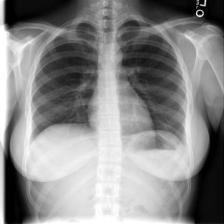normal: (24, 14, 192, 151)
